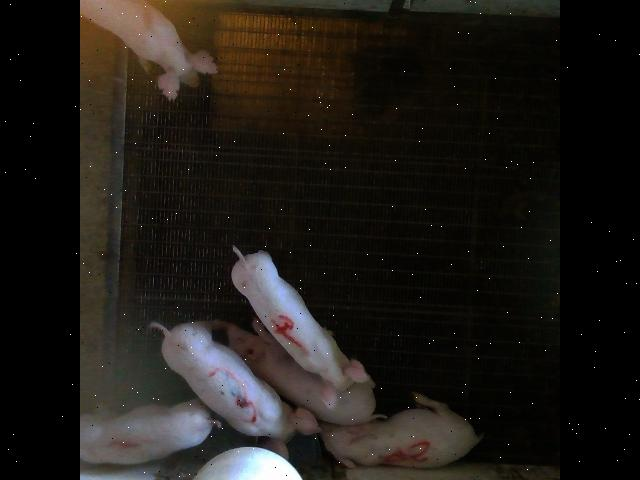pig-1: (152, 321, 321, 458), (81, 398, 221, 464)
pig-2: (81, 0, 216, 99)
pig-4: (233, 246, 372, 408)
pig-5: (318, 391, 482, 468)
